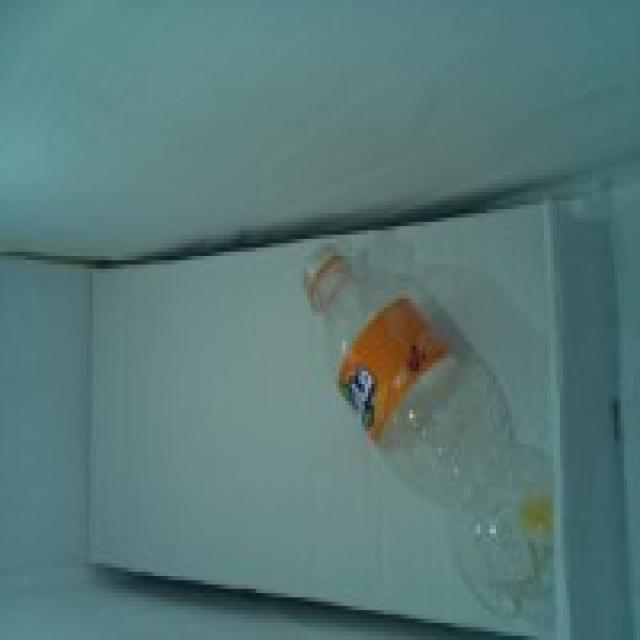plastic_bottle: (303, 244, 556, 620)
